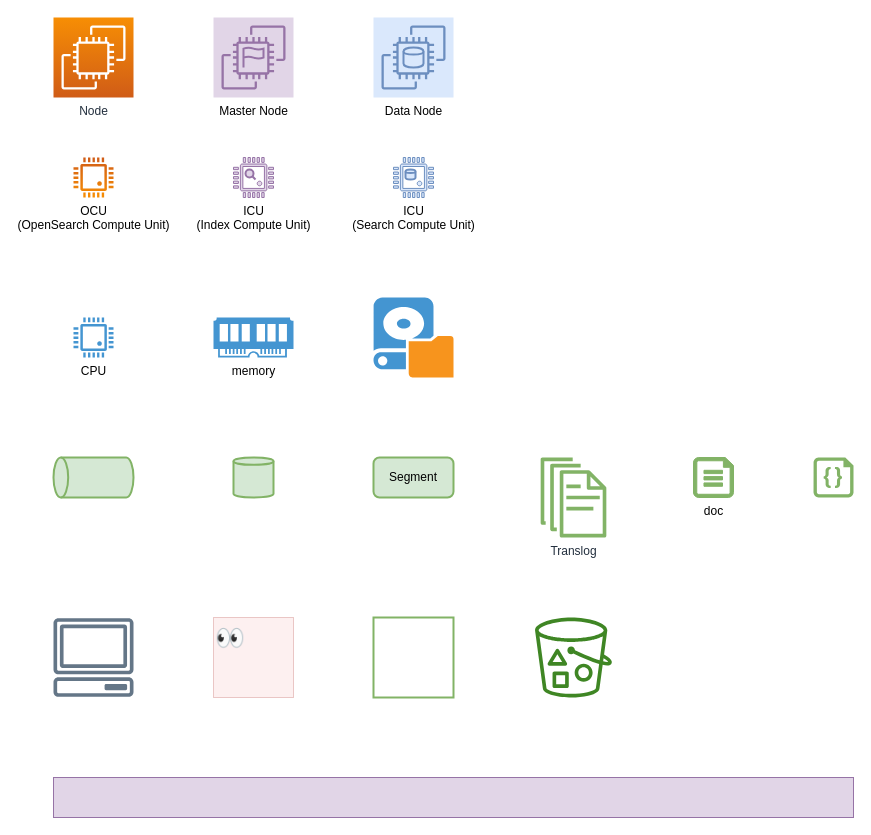
Image size: 871x835. Some labels were removed from this diagram. The centre of each missing label's shape, as x and y in pixels:
"client" goes at pixel 93 657.
"Data" goes at pixel 253 477.
"disk" goes at pixel 413 337.
"JSON" goes at pixel 833 477.
"Shard" goes at pixel 93 477.
"Title ⏰ 5 min" goes at pixel 453 797.
